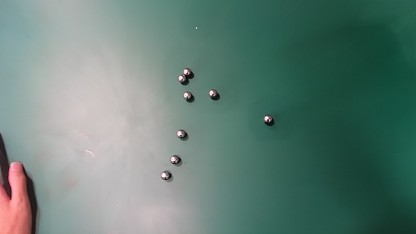ironball: (160, 171, 171, 180), (170, 155, 181, 164), (176, 129, 186, 138), (183, 91, 192, 100), (208, 89, 217, 98), (263, 115, 273, 123), (182, 68, 191, 76), (178, 74, 186, 83)
